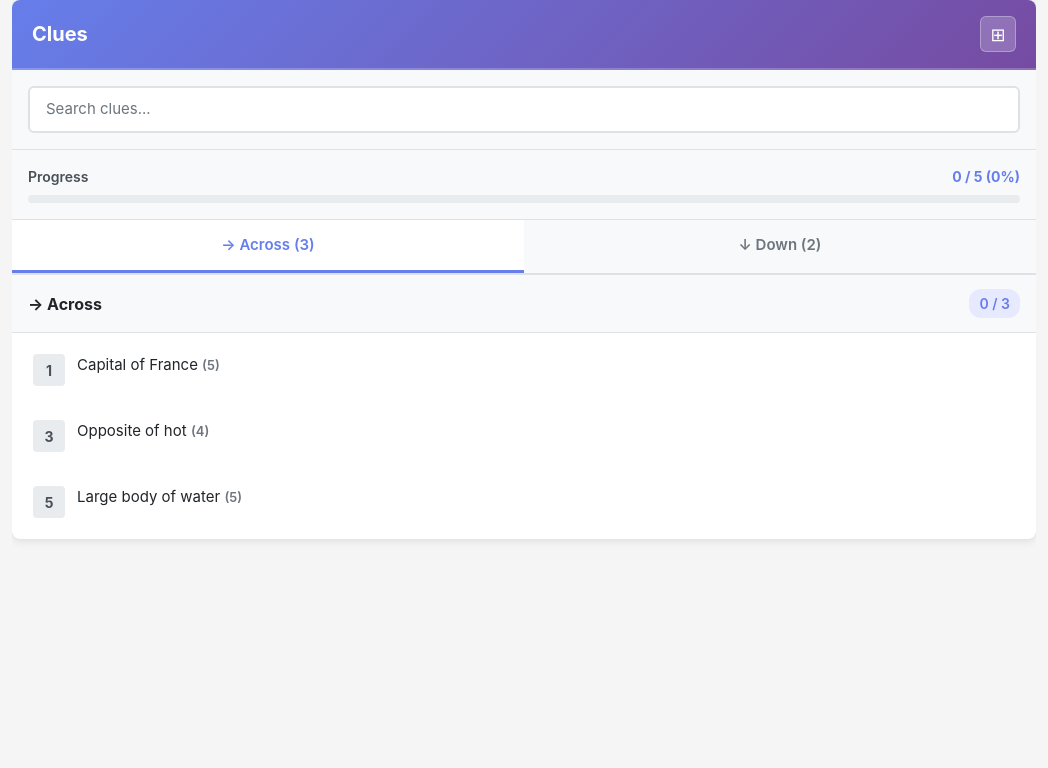
Test: CluePanel Component › Search Functionality › should filter clues based on search query
Note: Type search query
Step 1. Type "France" into the field with test id "search-input" → (524, 109), box [28, 86, 1020, 132]
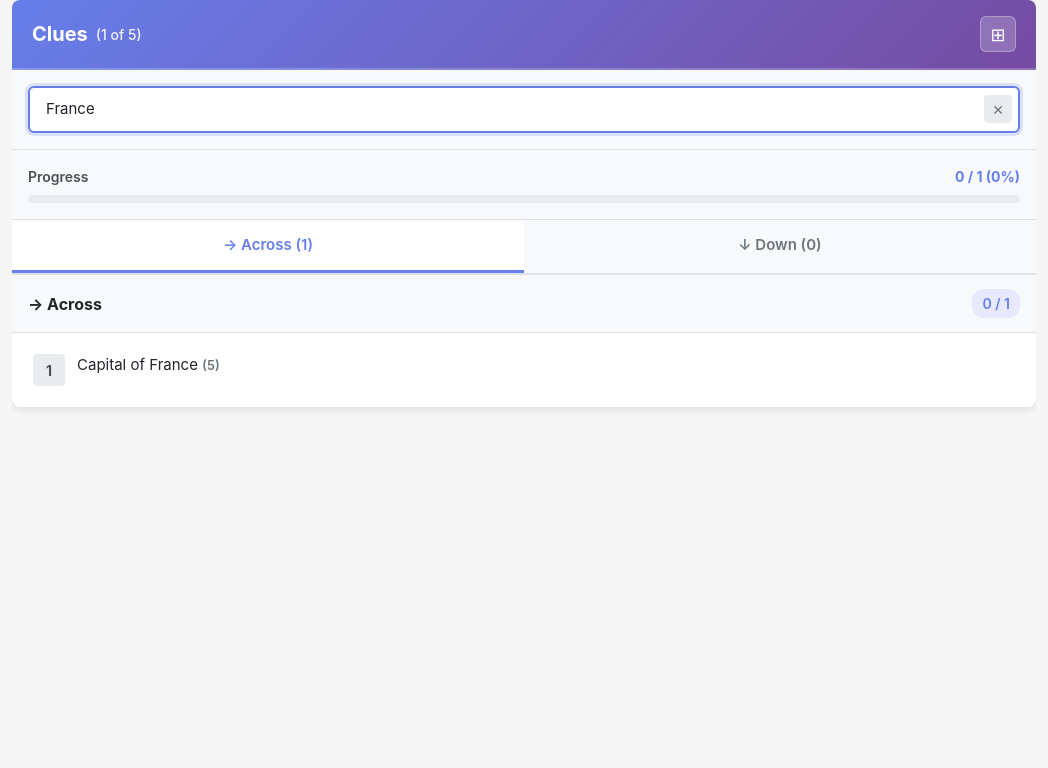
Result: the text "(1 of 5)" is shown at [96, 24, 142, 44]
